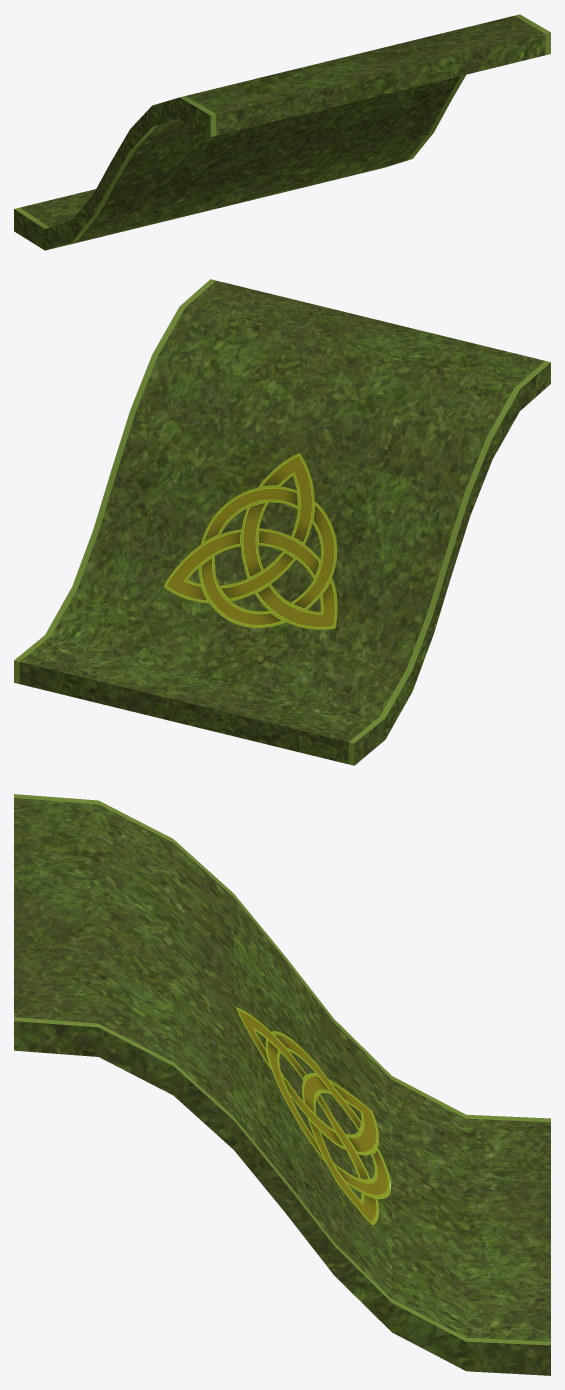
The model's file is mountain_slope.gltf.
3 views of the same model, one above another, from view 1: azimuth 30°, elevation 25°; view 2: azimuth 150°, elevation 25°; view 3: azimuth 270°, elevation 25° (orthographic). The views are drawn at different scales.
Parts seen in each view (by area): view 1: mountain_slope_glb; view 2: mountain_slope_glb; view 3: mountain_slope_glb.
Part boxes in pixels (x1,y1,x2,y2): mountain_slope_glb: (14,14,550,250); mountain_slope_glb: (14,279,550,765); mountain_slope_glb: (14,794,550,1375).
Size of what is drawn, in the model's own units: 4 by 2.92 by 4.
2 materials, 2 textured.
